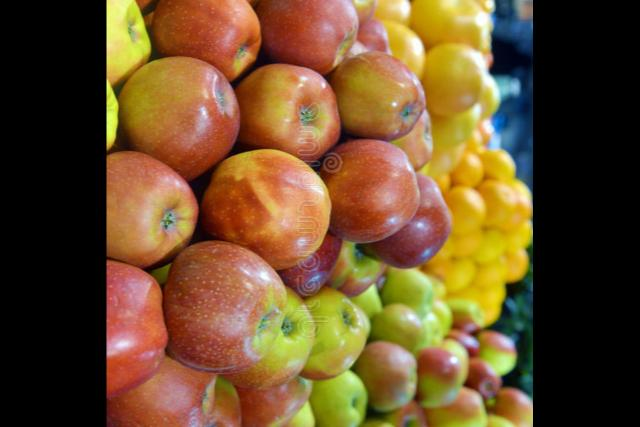Apples: (165, 244, 286, 372), (120, 58, 241, 175), (106, 152, 198, 264), (324, 140, 418, 241), (241, 66, 340, 157), (154, 0, 263, 74), (336, 52, 426, 140), (367, 176, 452, 269), (261, 0, 359, 68), (114, 366, 217, 427), (169, 389, 242, 427), (297, 0, 377, 20)
